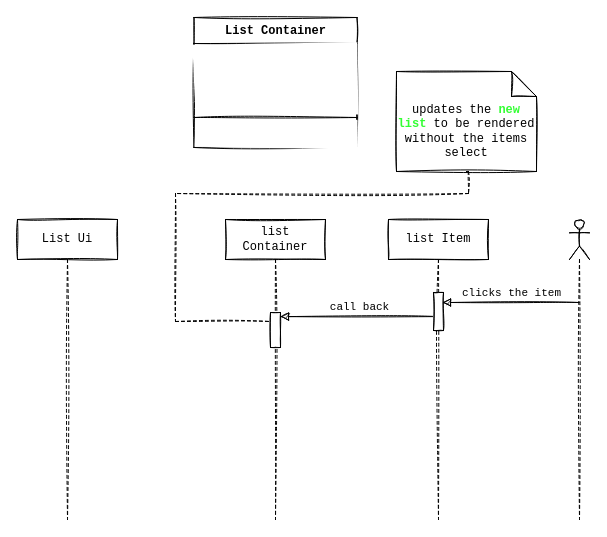
Some shapes in this 607 by 537 pixel diagram are drawn without their labels. Each missing label, with the centre of its shape:
"+ method(type): type" goes at [275,134].
"props { data: list[] cbFn: (data):void }" goes at [275,78].
